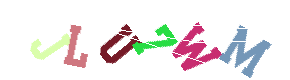7: (116, 0, 196, 80)
J: (57, 0, 137, 80)
L: (78, 0, 158, 80)
M: (203, 0, 283, 80)
U: (100, 0, 180, 80)
W: (152, 0, 232, 80)
